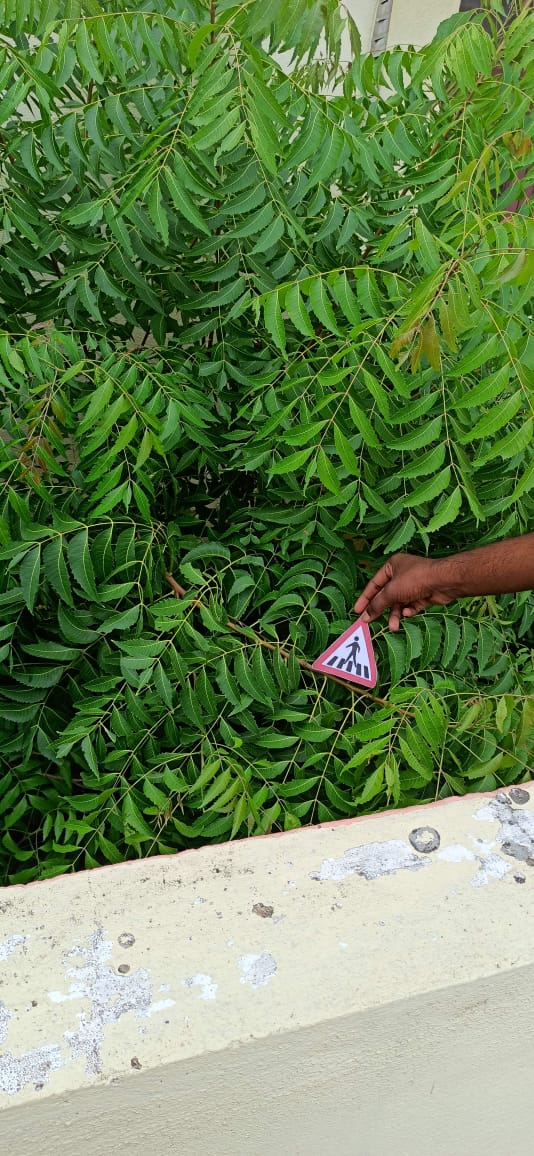PEDESTRIAN CROSSING: (308, 608, 404, 698)
